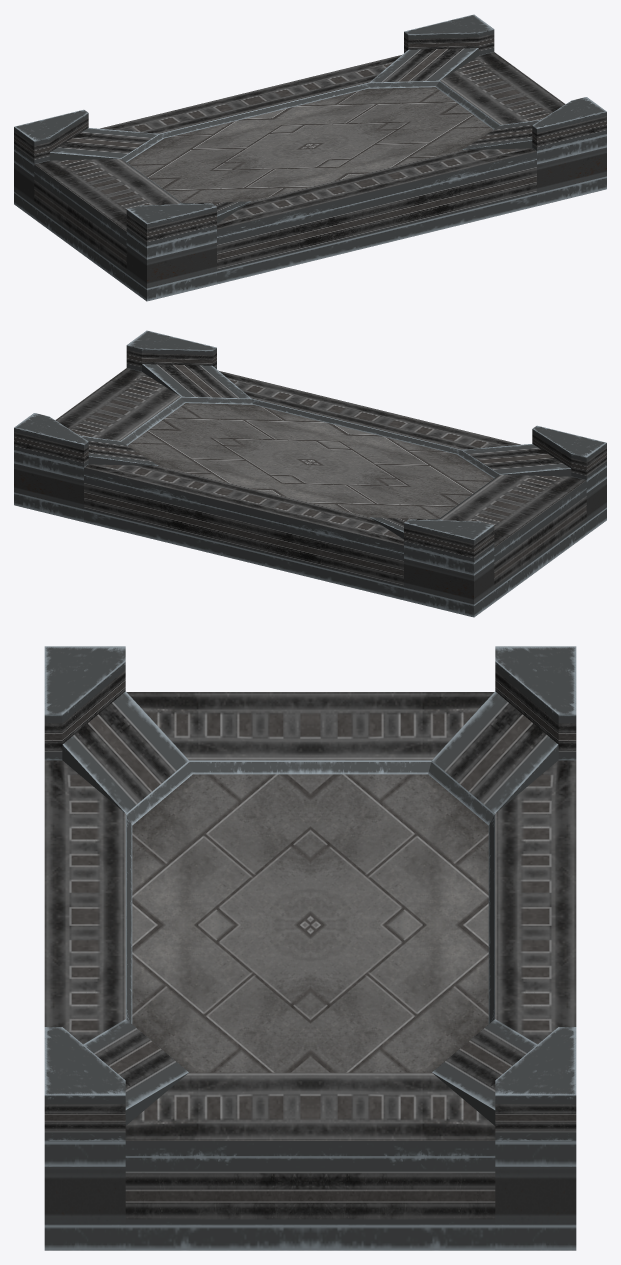
Rendered from NUI_project_platform_model_TRY_THIS.fbx.
The picture shows the model from 3 angles, top to bottom: view 1: azimuth 30°, elevation 25°; view 2: azimuth 150°, elevation 25°; view 3: azimuth 270°, elevation 25°; orthographic projection. The views are drawn at different scales.
Parts seen in each view (by area): view 1: platformPrefabCorner; view 2: platformPrefabCorner; view 3: platformPrefabCorner.
Part boxes in pixels (left/top/right/bottom): platformPrefabCorner: left=14, top=14, right=606, bottom=301; platformPrefabCorner: left=14, top=330, right=606, bottom=617; platformPrefabCorner: left=44, top=646, right=576, bottom=1250.
Bounding box in the file's own units: 2000 × 322 × 1000.
